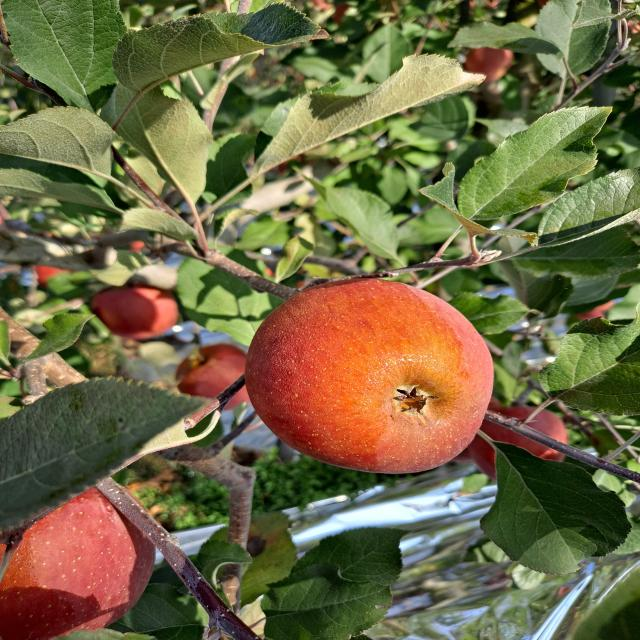fresh: (239, 275, 507, 484)
